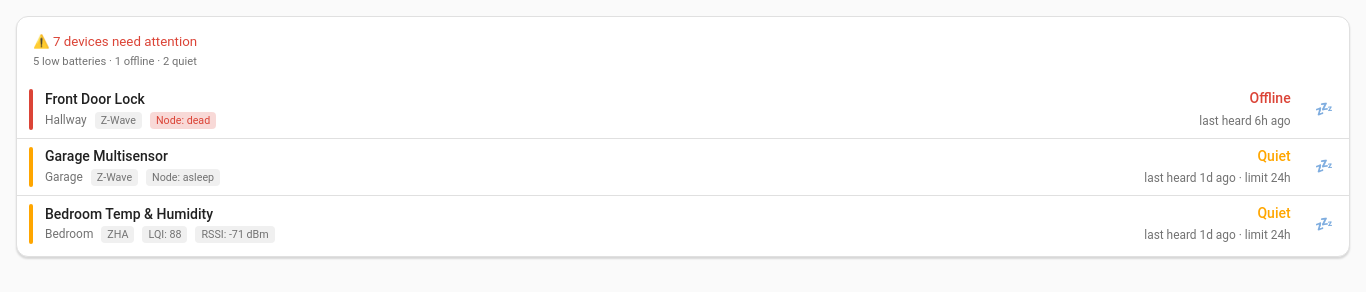
Test: App, accessible names › names the snooze menu after its button
This screenshot has width=1366, height=292.
Expected: the text "⚠️ 7 devices need attention" is shown, [33, 33, 197, 52]
Click the button named "Snooze Front Door Lock" at (1324, 109), box [1307, 94, 1341, 125]
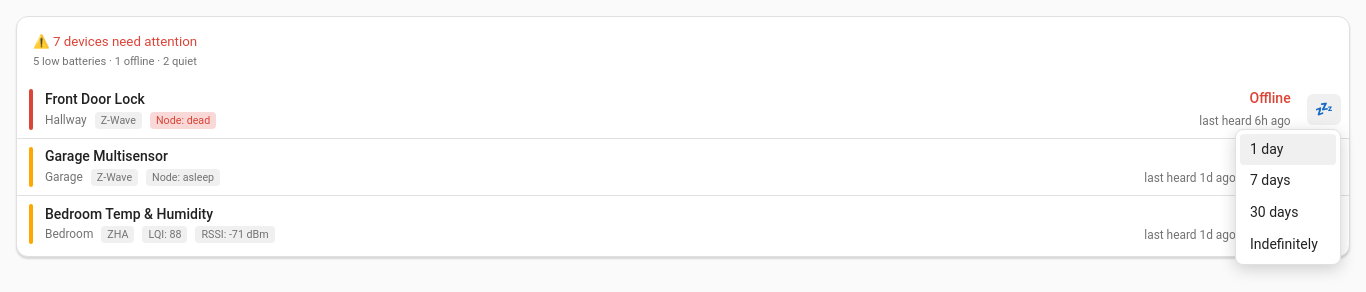
Expected: the menu named "Snooze Front Door Lock" is shown, [1235, 129, 1341, 265]
